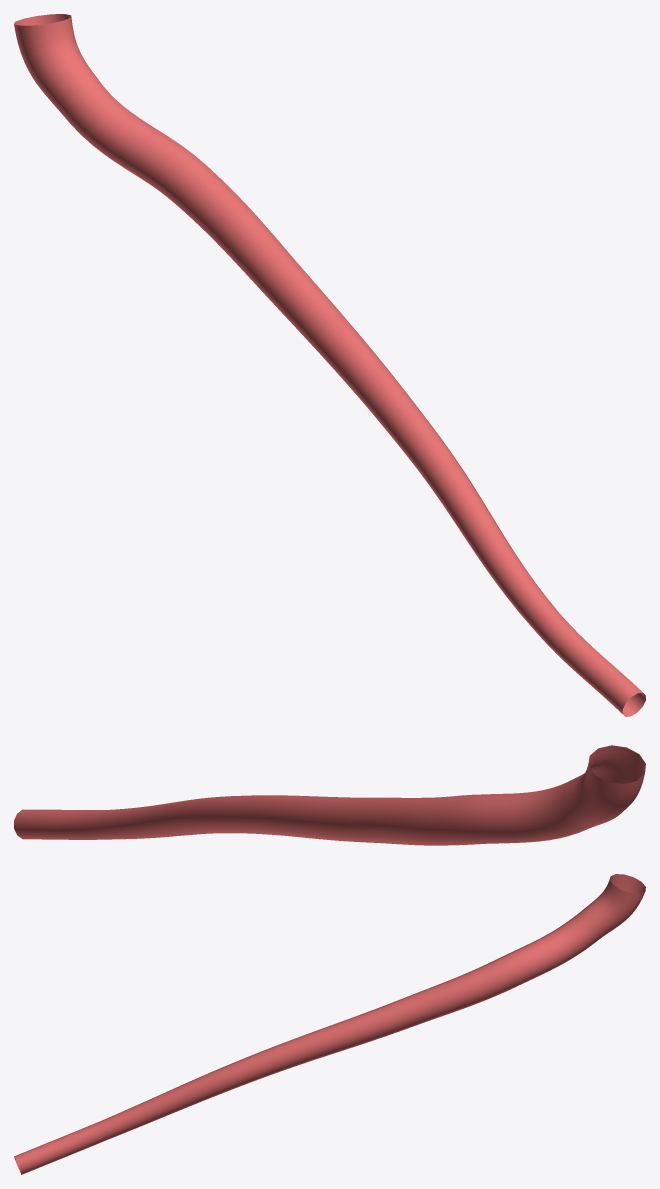
The model's file is Dorsalis_pedis_artery.l_BezierCurve.180.glb.
The picture shows the model from 3 angles, top to bottom: view 1: azimuth 30°, elevation 25°; view 2: azimuth 210°, elevation 25°; view 3: azimuth 270°, elevation 25°; orthographic projection. The views are drawn at different scales.
Visible parts, largest first — view 1: Dorsalis_pedis_artery.l_BezierCurve.180; view 2: Dorsalis_pedis_artery.l_BezierCurve.180; view 3: Dorsalis_pedis_artery.l_BezierCurve.180.
Part boxes in pixels (<box>): Dorsalis_pedis_artery.l_BezierCurve.180: <box>14,14,645,716</box>; Dorsalis_pedis_artery.l_BezierCurve.180: <box>14,745,645,845</box>; Dorsalis_pedis_artery.l_BezierCurve.180: <box>14,874,645,1174</box>.
Bounding box in the file's own units: 0.0146 × 0.0339 × 0.0757.
